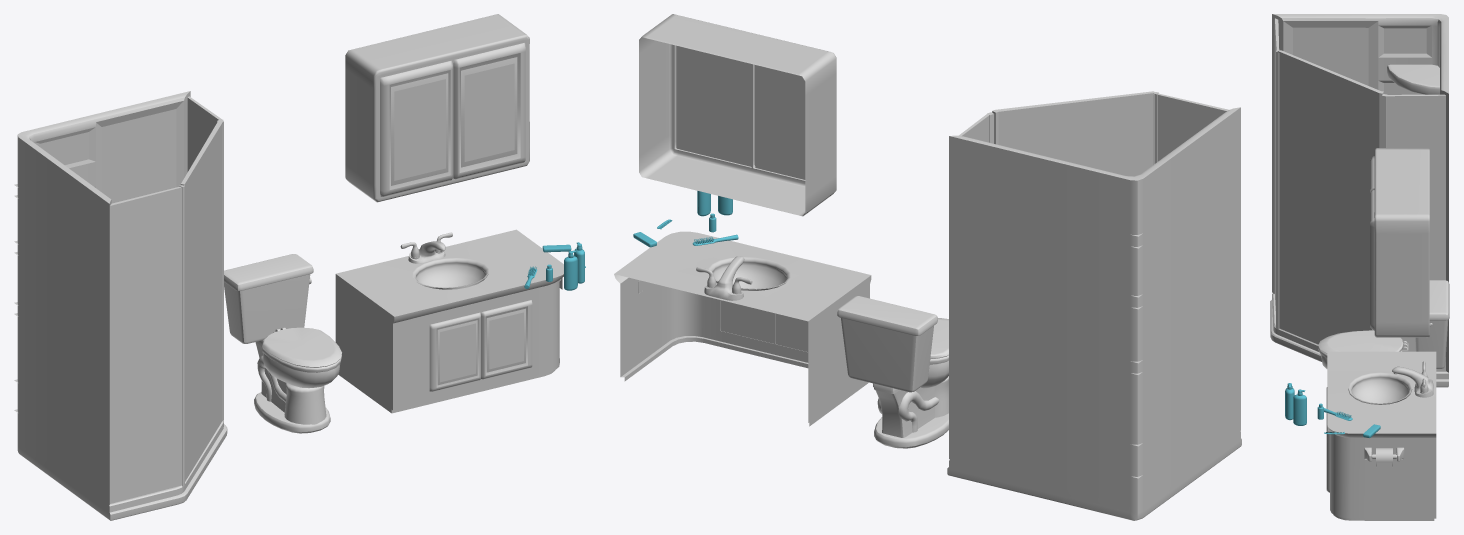
Rendered from BathroomSink_high.fbx.
3 views of the same model, side by side, from view 1: azimuth 30°, elevation 25°; view 2: azimuth 150°, elevation 25°; view 3: azimuth 270°, elevation 25° (orthographic). The views are drawn at different scales.
Parts seen in each view (by area): view 1: shower_high, BathroomSink_high, Bathroom_Cupboard_high, Toilet_high; view 2: shower_high, Bathroom_Cupboard_high, BathroomSink_high, Toilet_high; view 3: shower_high, BathroomSink_high, Bathroom_Cupboard_high, Toilet_high, Large_Conditioner_Bottle_high, Large_Shampoo_Bottle_high.
Boxes of the visible parts, x1,y1,x2,y2 form: shower_high: [14, 91, 227, 520]; BathroomSink_high: [335, 229, 563, 413]; Bathroom_Cupboard_high: [345, 14, 529, 202]; Toilet_high: [224, 254, 341, 433]; shower_high: [947, 91, 1241, 520]; Bathroom_Cupboard_high: [639, 14, 836, 216]; BathroomSink_high: [614, 231, 871, 426]; Toilet_high: [837, 296, 948, 448]; shower_high: [1270, 14, 1448, 387]; BathroomSink_high: [1326, 351, 1436, 520]; Bathroom_Cupboard_high: [1370, 148, 1429, 337]; Toilet_high: [1318, 280, 1449, 368]; Large_Conditioner_Bottle_high: [1293, 389, 1306, 425]; Large_Shampoo_Bottle_high: [1285, 383, 1294, 420].
Bounding box in the file's own units: 4.14 × 2.55 × 1.35.
